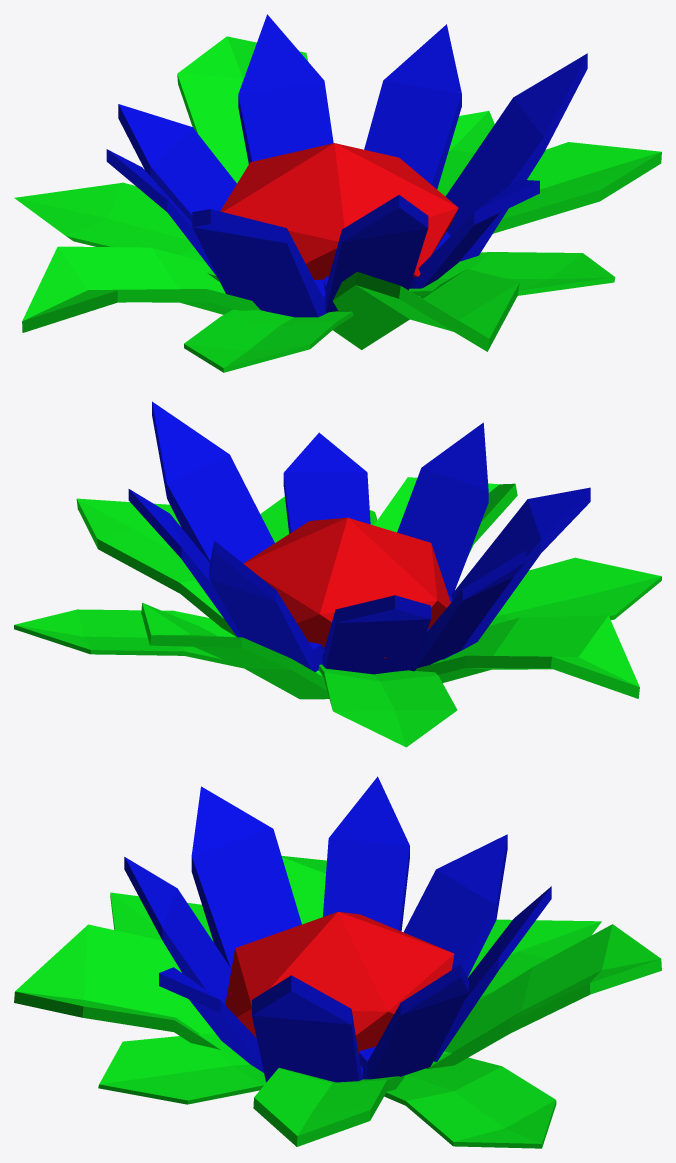
Rendered from SM_WaterLily2.fbx.
The picture shows the model from 3 angles, top to bottom: view 1: azimuth 30°, elevation 25°; view 2: azimuth 150°, elevation 25°; view 3: azimuth 270°, elevation 25°; orthographic projection. The views are drawn at different scales.
Parts seen in each view (by area): view 1: SM_WaterLily2; view 2: SM_WaterLily2; view 3: SM_WaterLily2.
Part boxes in pixels (x1,y1,x2,y2): SM_WaterLily2: (14, 14, 661, 372); SM_WaterLily2: (14, 401, 661, 747); SM_WaterLily2: (14, 776, 661, 1148).
Size of the model in its own units: 25.24 by 9.11 by 22.38.
